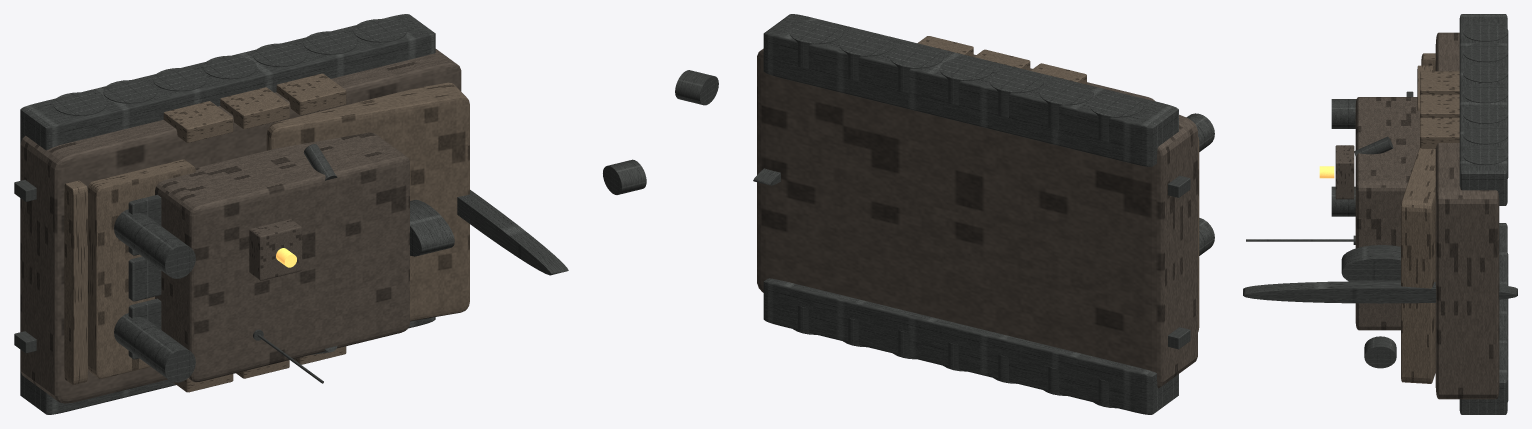
File: d-u13-dominion-main-battle-tank-lod0.glb
3 views of the same model, side by side, from view 1: azimuth 30°, elevation 25°; view 2: azimuth 150°, elevation 25°; view 3: azimuth 270°, elevation 25° (orthographic). The views are drawn at different scales.
Visible parts, largest first — view 1: turret_yaw, hull_lower, glacis, track_left, engine_deck, rear_armor, gun_pitch, exhaust_left, exhaust_right, commander_cupola, dominion_side_armor_1_2, dominion_side_armor_1_0 (+15 smaller); view 2: hull_lower, track_left, track_right, wheel_l_5, wheel_l_3, wheel_l_4, wheel_l_6, wheel_l_1, wheel_l_2, wheel_l_7, muzzle, dominion_side_armor_1_1 (+3 smaller); view 3: hull_lower, turret_yaw, glacis, track_left, gun_pitch, track_right, recoil_sleeve, dominion_side_armor_1_2, commander_cupola, dominion_side_armor_1_0, dominion_side_armor_1_1, muzzle (+11 smaller).
Part boxes in pixels (left/top/right/bottom): turret_yaw: left=155, top=132, right=409, bottom=382; hull_lower: left=20, top=49, right=461, bottom=403; glacis: left=266, top=82, right=469, bottom=321; track_left: left=20, top=14, right=435, bottom=150; engine_deck: left=87, top=159, right=195, bottom=378; rear_armor: left=64, top=180, right=87, bottom=384; gun_pitch: left=457, top=190, right=568, bottom=275; exhaust_left: left=114, top=209, right=195, bottom=278; exhaust_right: left=114, top=313, right=195, bottom=382; commander_cupola: left=249, top=219, right=302, bottom=280; dominion_side_armor_1_2: left=276, top=73, right=346, bottom=115; dominion_side_armor_1_0: left=163, top=101, right=233, bottom=142; hull_lower: left=757, top=48, right=1197, bottom=388; track_left: left=763, top=14, right=1178, bottom=166; track_right: left=763, top=278, right=1178, bottom=414; wheel_l_5: left=889, top=45, right=943, bottom=93; wheel_l_3: left=989, top=69, right=1043, bottom=117; wheel_l_4: left=939, top=57, right=993, bottom=105; wheel_l_6: left=839, top=33, right=893, bottom=81; wheel_l_1: left=1090, top=94, right=1143, bottom=142; wheel_l_2: left=1039, top=82, right=1093, bottom=129; wheel_l_7: left=789, top=20, right=843, bottom=68; muzzle: left=675, top=70, right=718, bottom=105; dominion_side_armor_1_1: left=974, top=49, right=1030, bottom=70; hull_lower: left=1435, top=32, right=1499, bottom=399; turret_yaw: left=1355, top=97, right=1419, bottom=330; glacis: left=1401, top=147, right=1435, bottom=383; track_left: left=1459, top=14, right=1507, bottom=205; gun_pitch: left=1243, top=281, right=1517, bottom=303; track_right: left=1459, top=223, right=1507, bottom=414; recoil_sleeve: left=1341, top=245, right=1400, bottom=281; dominion_side_armor_1_2: left=1420, top=118, right=1459, bottom=148; commander_cupola: left=1335, top=145, right=1354, bottom=199; dominion_side_armor_1_0: left=1420, top=71, right=1459, bottom=94; dominion_side_armor_1_1: left=1420, top=94, right=1459, bottom=118; muzzle: left=1364, top=336, right=1396, bottom=368.
Size of what is drawn, in the model's own units: 8.11 by 4.04 by 4.1.
5 materials, 5 textured.
